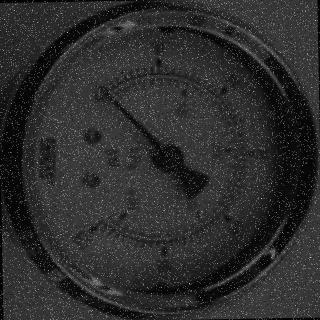gauge: (0, 0, 320, 320), (74, 74, 126, 111), (77, 212, 119, 246), (156, 145, 184, 173), (93, 82, 111, 98)
